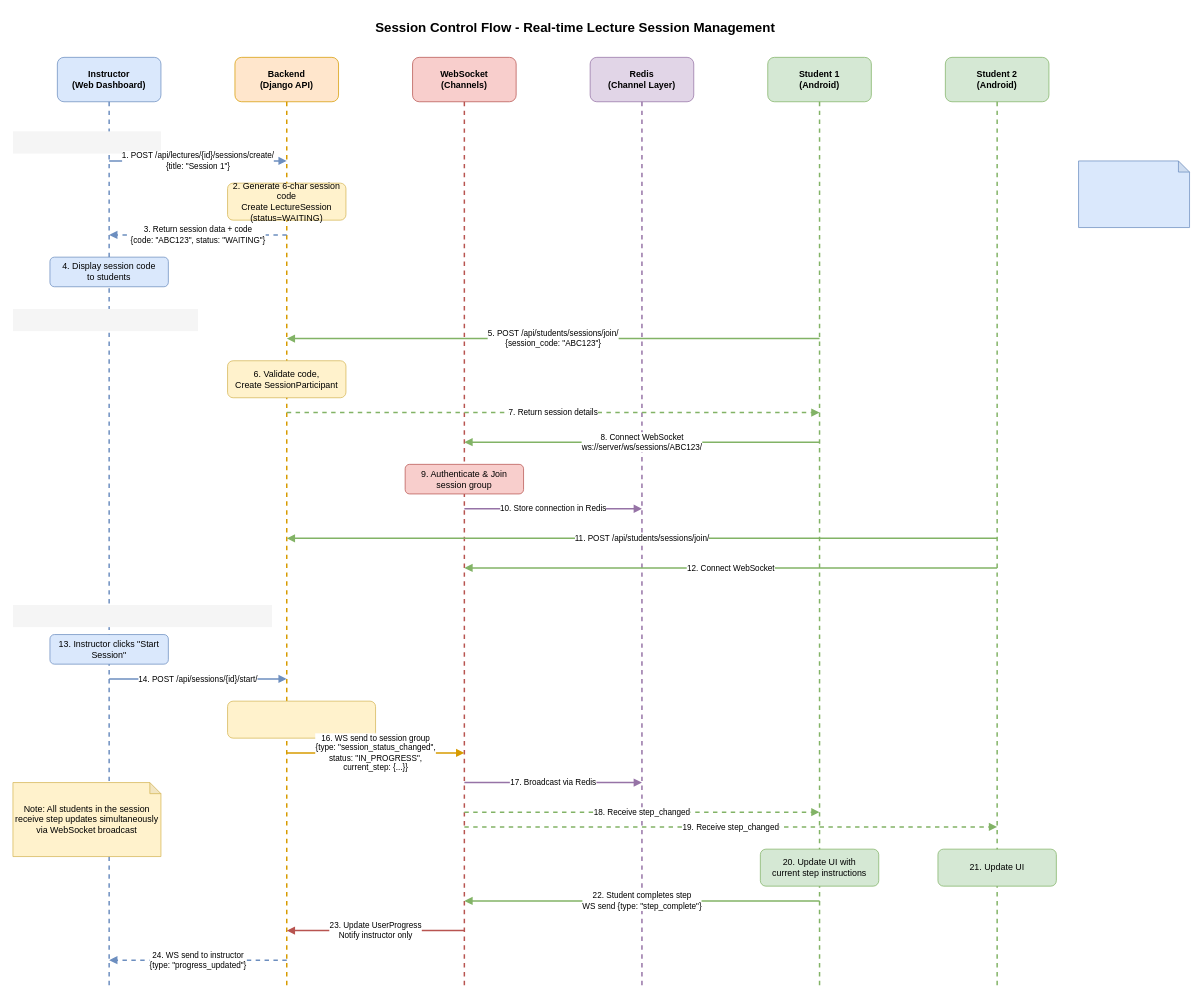
Image size: 1203x1003. Some labels were removed from this diagram. Each missing label, with the centre of its shape:
15. Update status=IN_PROGRESS Set current_subtask to first step: point (301, 719)
Phase 1: Session Creation: point (87, 142)
Phase 2: Students Join Session: point (105, 320)
Phase 3: Session Control - Start & Next Step: point (142, 616)
Status Flow: WAITING → IN_PROGRESS → PAUSED → ENDED: point (1134, 194)
